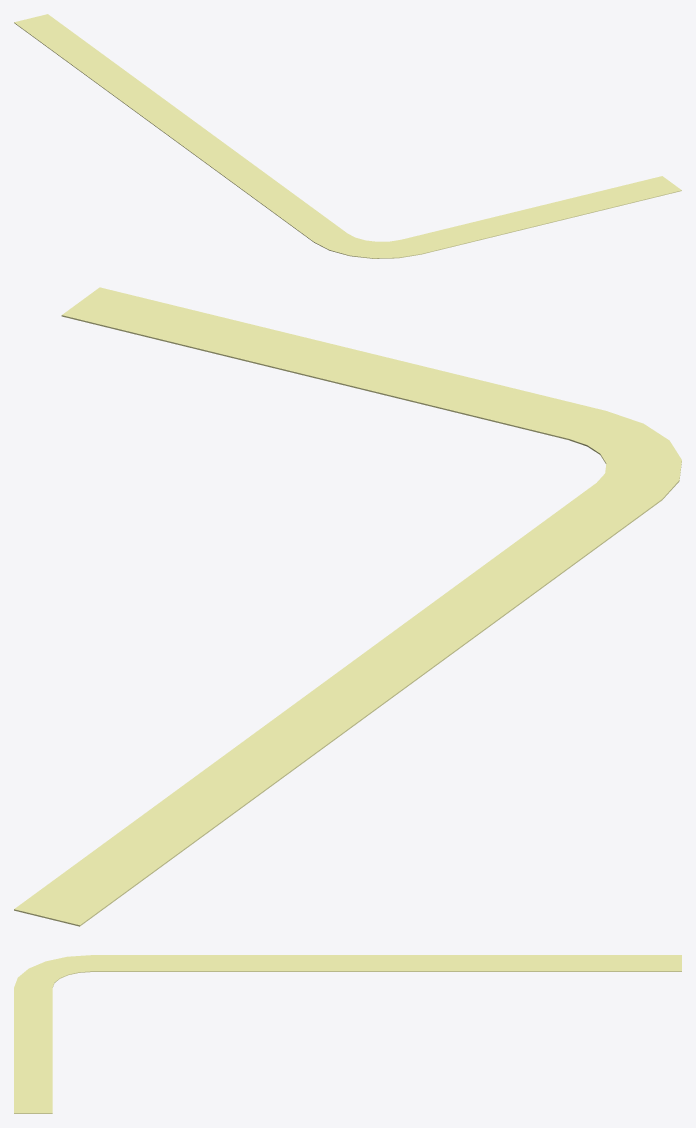
The model's file is huldra-smaller-walkway.gltf.
The picture shows the model from 3 angles, top to bottom: view 1: azimuth 30°, elevation 25°; view 2: azimuth 150°, elevation 25°; view 3: azimuth 270°, elevation 25°; orthographic projection. The views are drawn at different scales.
Parts seen in each view (by area): view 1: BOX_14_of_SUBSTRUCTURE_/ESCAPE-MEZZ/FLOOR_Mesh.001, BOX_6_of_SUBSTRUCTURE_/ESCAPE-MEZZ/FLOOR_Mesh, RTORUS_1_of_SUBSTRUCTURE_/ESCAPE-MEZZ/FLOOR_Mesh.002; view 2: BOX_14_of_SUBSTRUCTURE_/ESCAPE-MEZZ/FLOOR_Mesh.001, BOX_6_of_SUBSTRUCTURE_/ESCAPE-MEZZ/FLOOR_Mesh, RTORUS_1_of_SUBSTRUCTURE_/ESCAPE-MEZZ/FLOOR_Mesh.002; view 3: BOX_14_of_SUBSTRUCTURE_/ESCAPE-MEZZ/FLOOR_Mesh.001, BOX_6_of_SUBSTRUCTURE_/ESCAPE-MEZZ/FLOOR_Mesh, RTORUS_1_of_SUBSTRUCTURE_/ESCAPE-MEZZ/FLOOR_Mesh.002.
Boxes of the visible parts, x1,y1,x2,y2 form: BOX_14_of_SUBSTRUCTURE_/ESCAPE-MEZZ/FLOOR_Mesh.001: [14, 14, 347, 242]; BOX_6_of_SUBSTRUCTURE_/ESCAPE-MEZZ/FLOOR_Mesh: [402, 176, 681, 254]; RTORUS_1_of_SUBSTRUCTURE_/ESCAPE-MEZZ/FLOOR_Mesh.002: [314, 233, 420, 258]; BOX_14_of_SUBSTRUCTURE_/ESCAPE-MEZZ/FLOOR_Mesh.001: [14, 483, 662, 926]; BOX_6_of_SUBSTRUCTURE_/ESCAPE-MEZZ/FLOOR_Mesh: [61, 287, 606, 439]; RTORUS_1_of_SUBSTRUCTURE_/ESCAPE-MEZZ/FLOOR_Mesh.002: [568, 411, 681, 499]; BOX_14_of_SUBSTRUCTURE_/ESCAPE-MEZZ/FLOOR_Mesh.001: [91, 955, 681, 971]; BOX_6_of_SUBSTRUCTURE_/ESCAPE-MEZZ/FLOOR_Mesh: [14, 987, 52, 1113]; RTORUS_1_of_SUBSTRUCTURE_/ESCAPE-MEZZ/FLOOR_Mesh.002: [14, 955, 90, 987].
Bounding box in the file's own units: 9.7 × 0.02 × 17.33.
